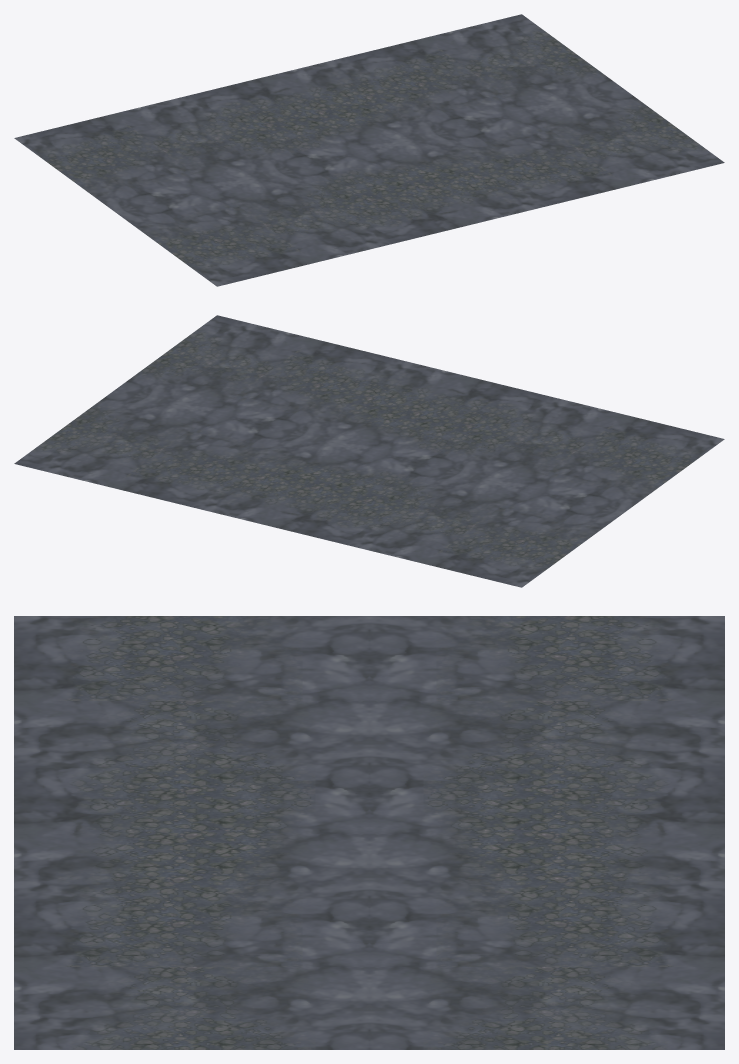
The model's file is demo2_scene_daolu04.FBX.
3 renders of one model, top to bottom at view 1: azimuth 30°, elevation 25°; view 2: azimuth 150°, elevation 25°; view 3: azimuth 270°, elevation 25°, orthographic. The views are drawn at different scales.
Parts seen in each view (by area): view 1: Plane01; view 2: Plane01; view 3: Plane01.
Part boxes in pixels (x1,y1,x2,y2): Plane01: (14,14,724,286); Plane01: (14,315,724,587); Plane01: (14,616,724,1049).
Bounding box in the file's own units: 68.64 × 47.54 × 0.
